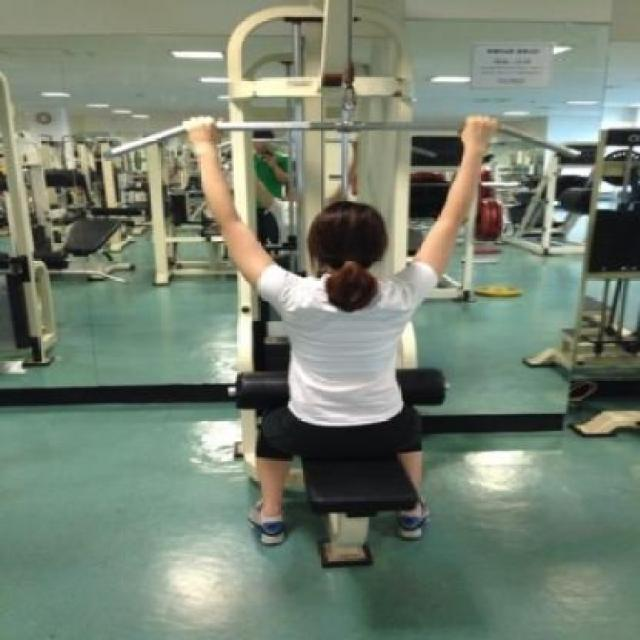Lat Pull Down: (76, 0, 602, 577)
